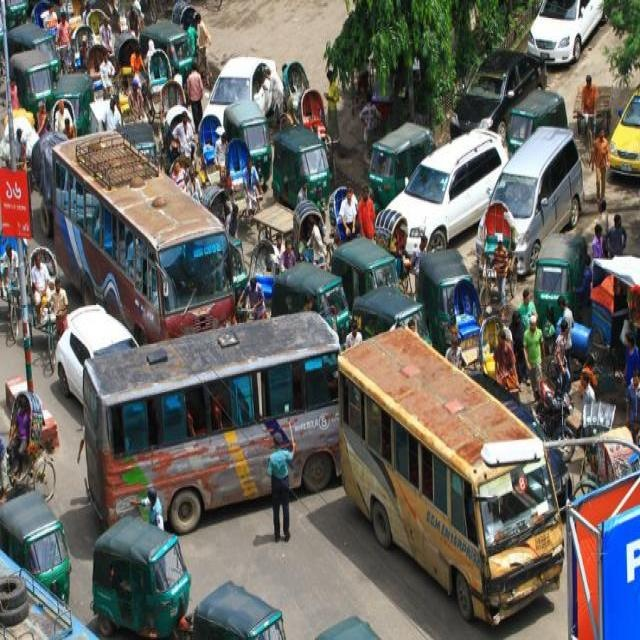Bus: (332, 325, 564, 637), (79, 310, 343, 527)
